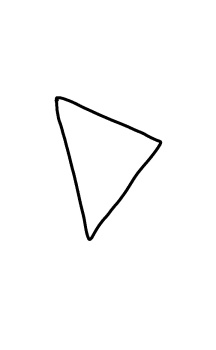Triangle: (49, 93, 166, 245)
